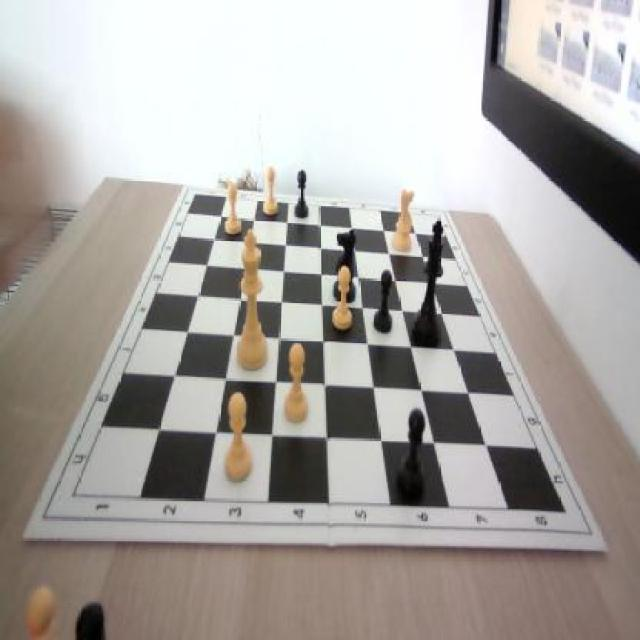black-bishop: (412, 218, 446, 347)
black-king: (336, 226, 358, 305)
black-knight: (398, 408, 428, 497), (374, 268, 395, 335), (294, 169, 309, 219)
white-bishop: (236, 226, 268, 371)
white-king: (396, 188, 416, 253)
white-knight: (221, 392, 254, 482), (285, 338, 310, 424), (332, 268, 356, 337), (262, 168, 280, 216), (225, 183, 242, 233)
